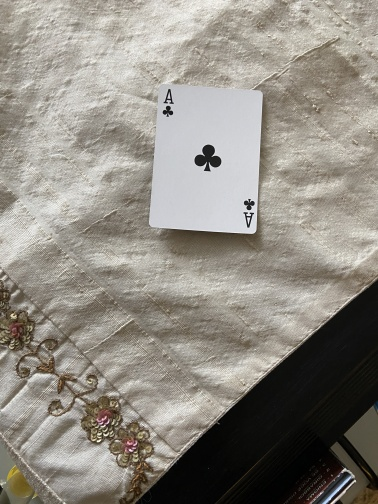ace: (147, 83, 265, 235)
